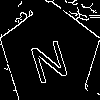N: (25, 30, 71, 85)
